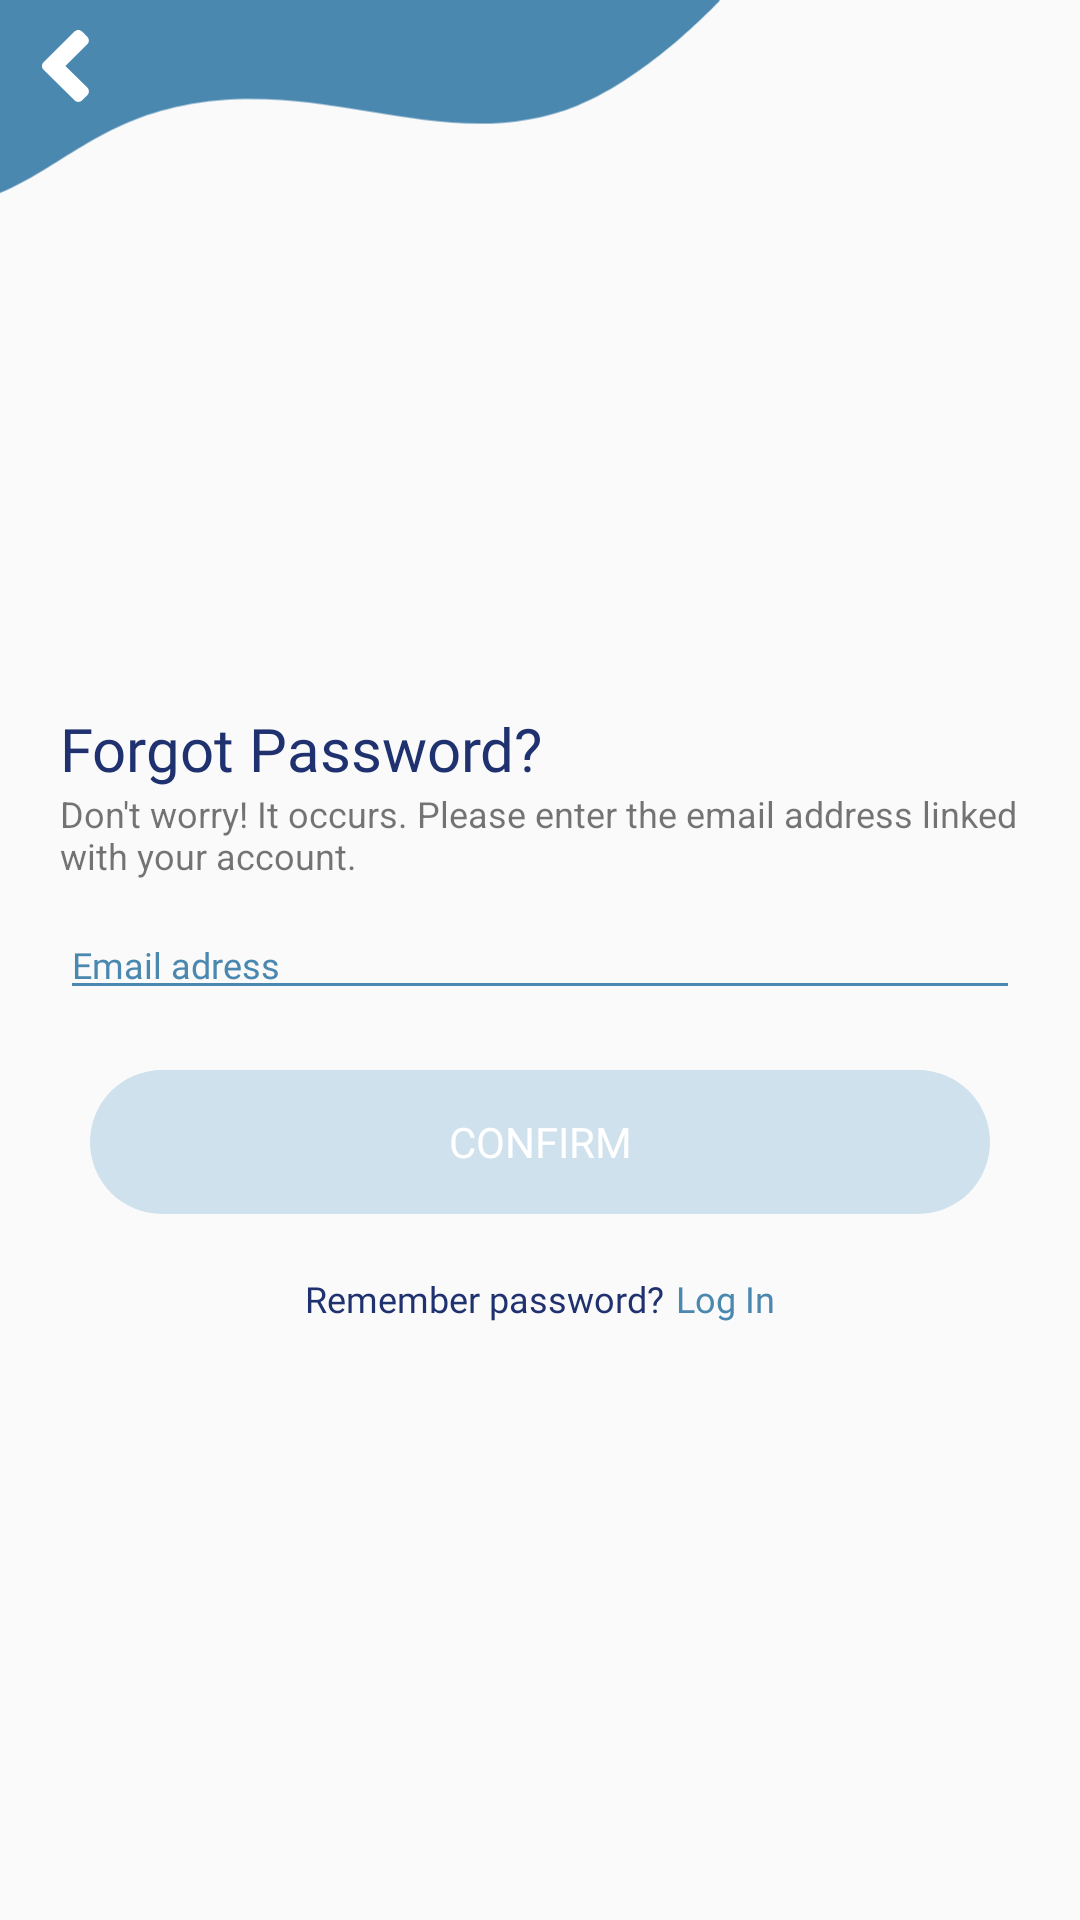

Locate icon controls on the screen. Image size 1080x1920, boxes as (x1, y1, x2, y2).
back arrow: (42, 30, 89, 102)
